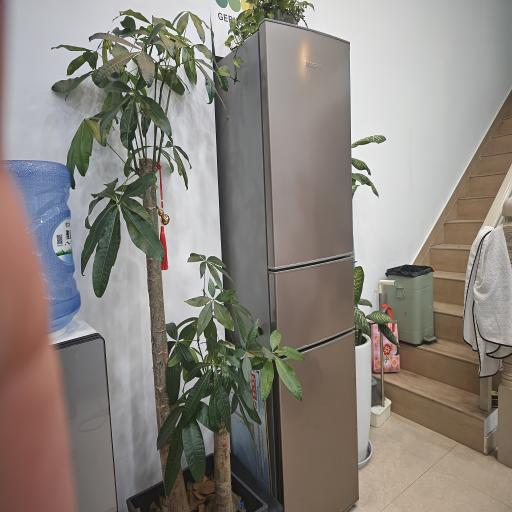refrigerator: (153, 0, 367, 59)
trash can: (192, 103, 512, 438)
